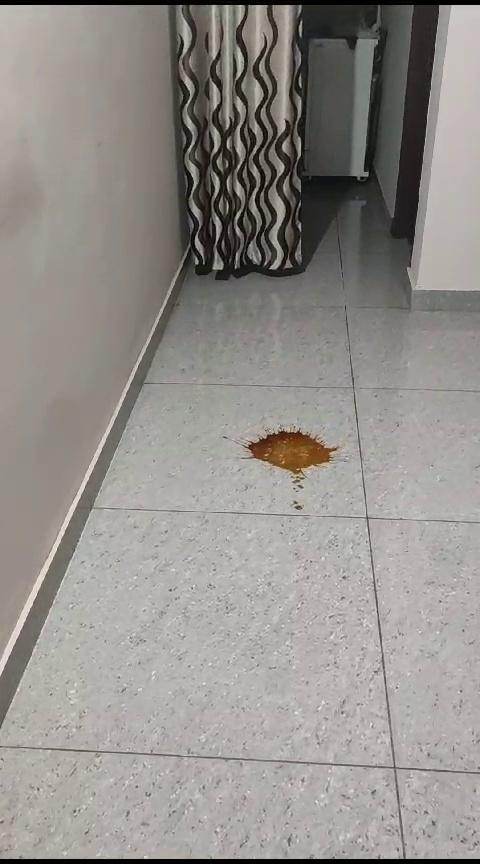dirty_floor: (228, 403, 345, 524)
